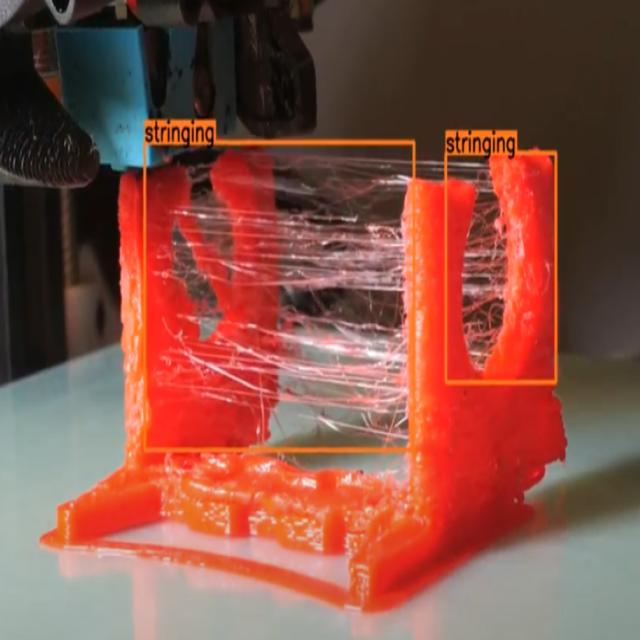Stringing: (173, 178, 428, 425), (452, 166, 524, 372)
